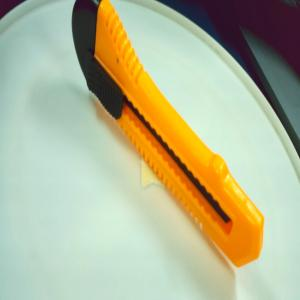estilete: (70, 0, 266, 268)
